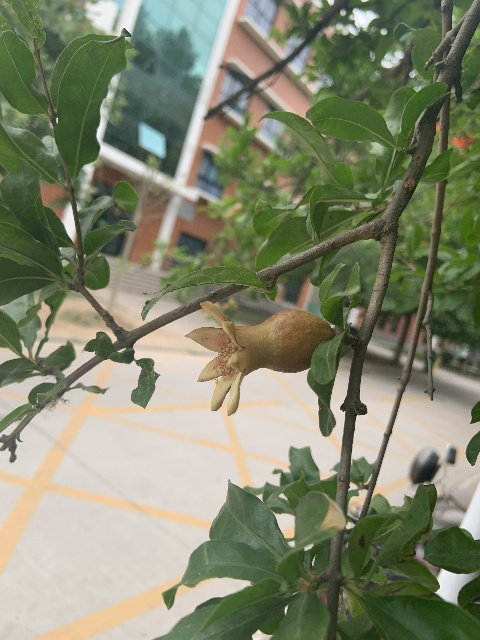early-fruit: (185, 300, 333, 416)
